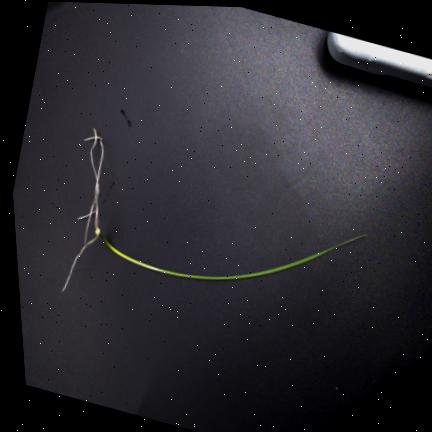leaf: (158, 234, 366, 280)
root1: (60, 236, 98, 292)
root2: (84, 183, 99, 245)
root3: (83, 135, 103, 227)
root4: (76, 210, 98, 228)
root5: (90, 127, 99, 227)
stem: (94, 227, 157, 269)
